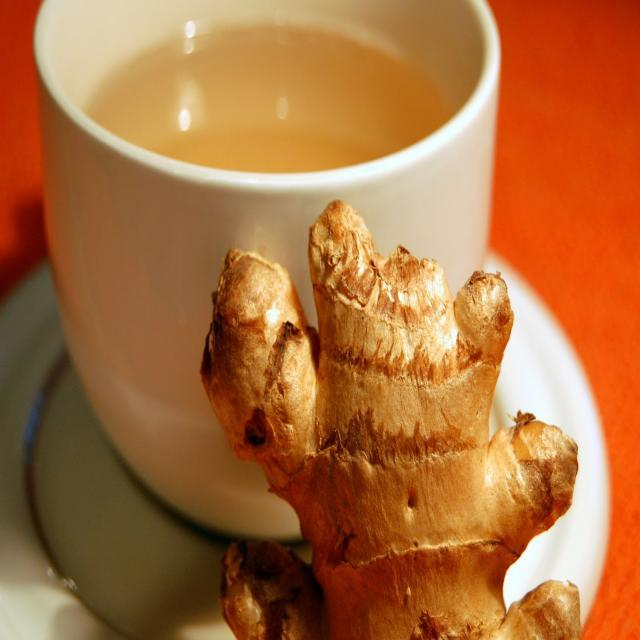ginger: (201, 194, 597, 640)
